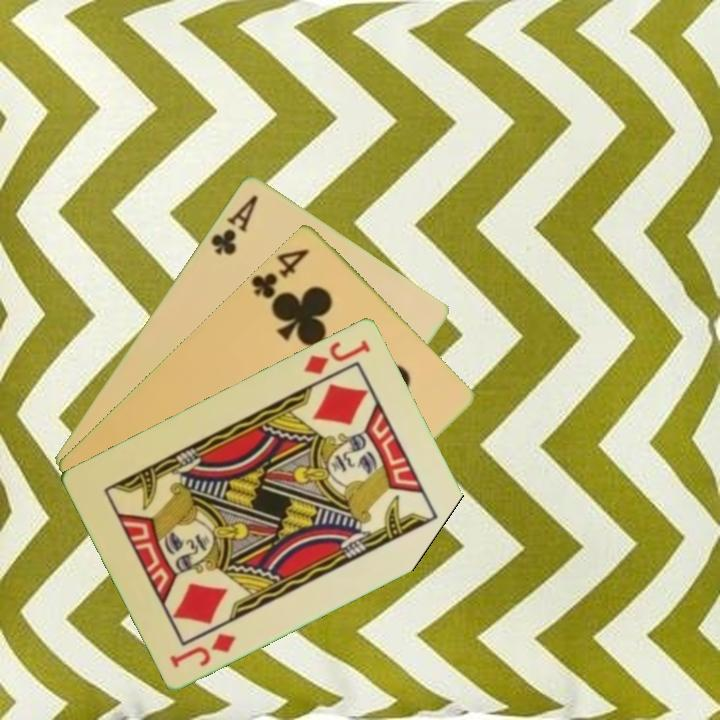4c: (248, 244, 313, 301)
Ac: (207, 191, 261, 258)
Jd: (300, 335, 374, 377), (166, 629, 240, 670)
